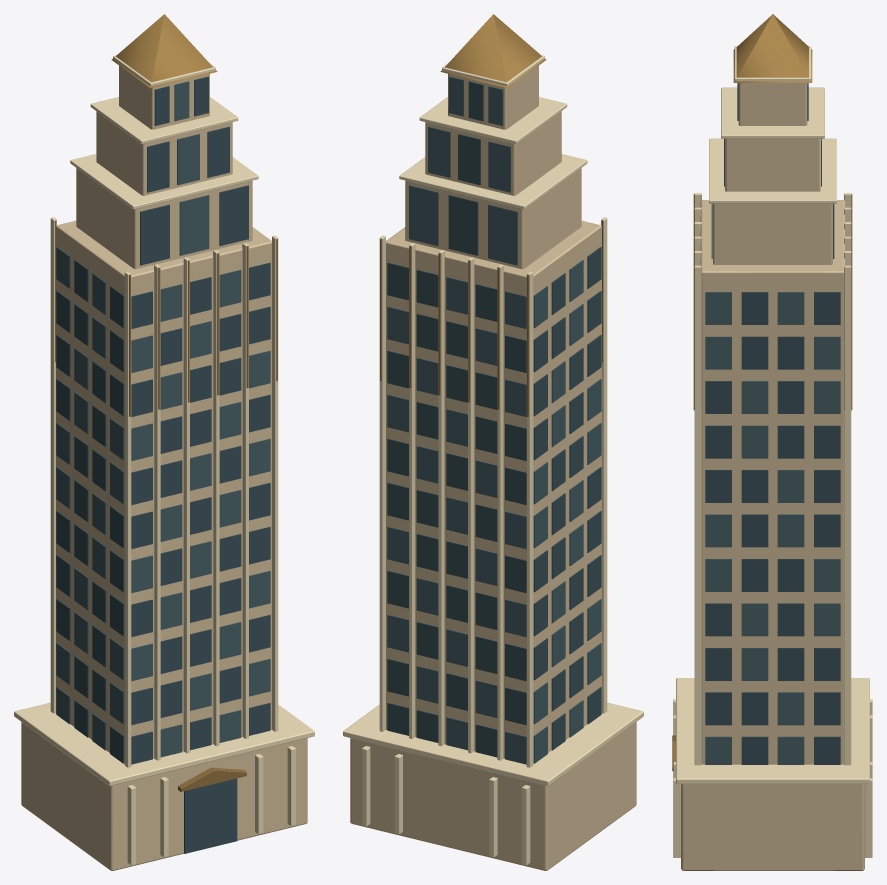
Rendered from tower-deco.glb.
3 renders of one model, left to right at view 1: azimuth 30°, elevation 25°; view 2: azimuth 150°, elevation 25°; view 3: azimuth 270°, elevation 25°, orthographic.
Parts seen in each view (by area): view 1: tower-stone, tower-window-dark, tower-trim, tower-window-lit, tower-copper, tower-metal; view 2: tower-stone, tower-window-dark, tower-trim, tower-window-lit, tower-copper, tower-metal; view 3: tower-stone, tower-trim, tower-window-dark, tower-window-lit, tower-copper, tower-metal.
Boxes of the visible parts, bbox=[...] form: tower-stone: bbox=[21, 65, 307, 870]; tower-window-dark: bbox=[56, 76, 270, 853]; tower-trim: bbox=[14, 55, 314, 865]; tower-window-lit: bbox=[56, 81, 270, 757]; tower-copper: bbox=[111, 14, 217, 88]; tower-metal: bbox=[55, 220, 277, 791]; tower-stone: bbox=[350, 65, 636, 870]; tower-window-dark: bbox=[387, 81, 601, 757]; tower-trim: bbox=[343, 55, 643, 865]; tower-window-lit: bbox=[387, 76, 601, 764]; tower-copper: bbox=[440, 14, 546, 88]; tower-metal: bbox=[380, 220, 602, 416]; tower-stone: bbox=[681, 83, 864, 870]; tower-trim: bbox=[673, 46, 872, 857]; tower-window-dark: bbox=[705, 83, 840, 764]; tower-window-lit: bbox=[705, 83, 840, 764]; tower-copper: bbox=[733, 14, 812, 82]; tower-metal: bbox=[672, 194, 852, 770].
Size of the model in its own units: 13.72 by 50.95 by 11.42.
